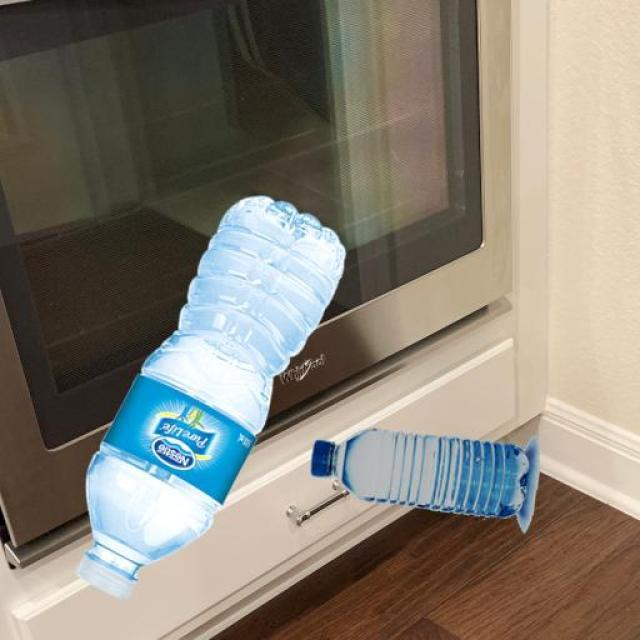bottle: (75, 192, 346, 598), (310, 425, 540, 534)
